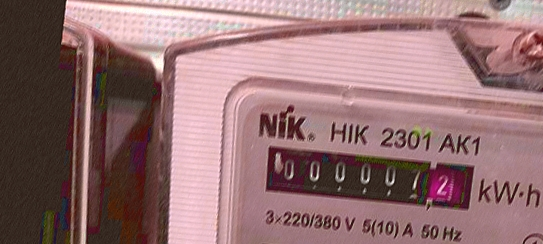0: (279, 156, 295, 181), (356, 162, 372, 186), (381, 163, 396, 188), (331, 160, 346, 184), (305, 159, 320, 182)
2: (433, 173, 448, 197)
7: (406, 166, 421, 191)
screen: (250, 132, 483, 223)
